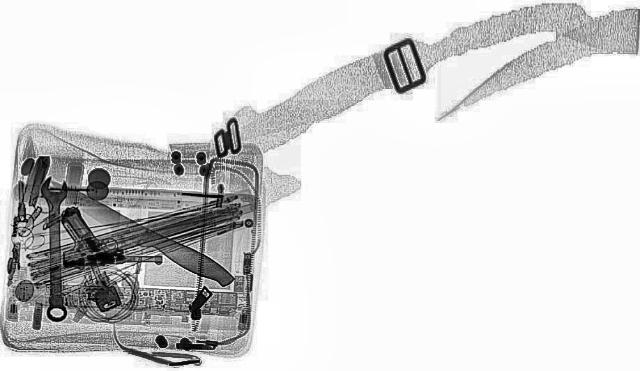Gun: (59, 204, 163, 266)
Knife: (36, 176, 244, 290)
Wrench: (40, 176, 66, 322)
